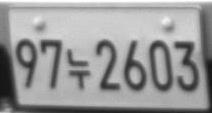0: (148, 39, 174, 92)
2: (94, 38, 120, 91)
3: (175, 40, 200, 91)
6: (122, 39, 147, 91)
7: (39, 38, 64, 90)
9: (15, 37, 38, 88)
누: (66, 48, 91, 90)
